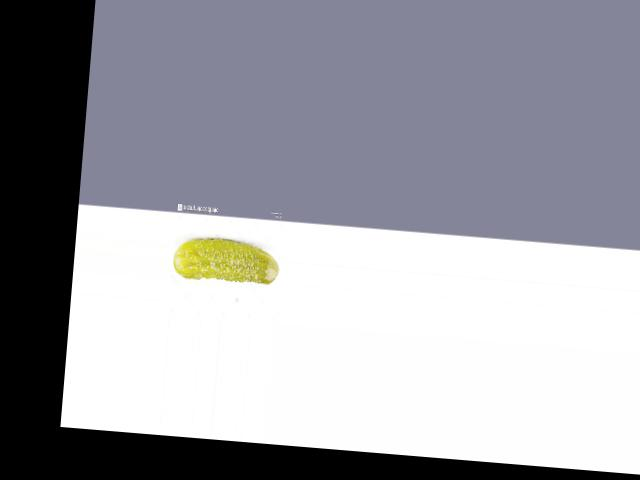cucumber: (172, 234, 282, 286)
